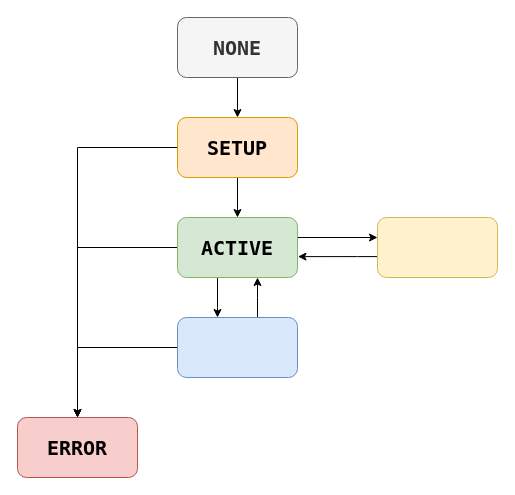
Image size: 515x495. Some labels were removed from this diagram. Here are the shapes that lost their labels. From the top down, the centre of each, then its label:
At (x=437, y=247): "STANDBY".
At (x=237, y=347): "DRIVING".
